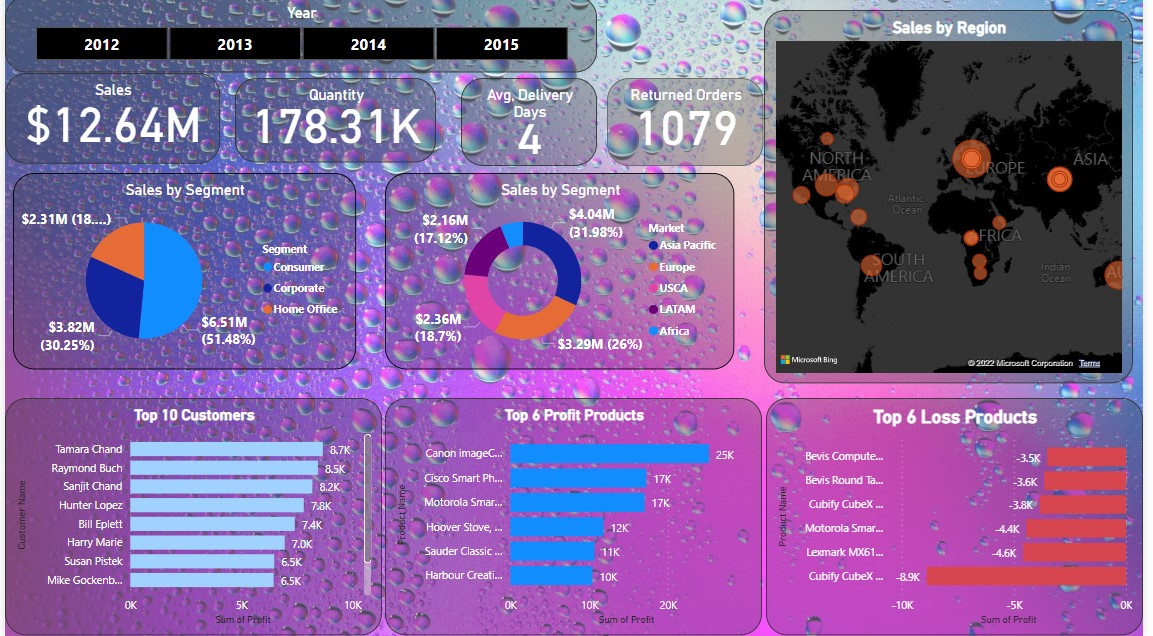

What the dashboard file says about the page in this screenshot:
{"tool":"powerbi","page":{"name":"Page 1","canvas":[1280,720],"ordinal":0},"visuals":[{"type":"card","title":"Sales","fields":{"Values":["Orders.Sales"]},"box":[0,86.1,241.6,101.5],"z":0},{"type":"card","title":"Quantity","fields":{"Values":["Orders.Quantity"]},"box":[258.3,92.5,226.2,95.1],"z":1},{"type":"card","title":"Avg, Delivery Days","fields":{"Values":["Orders.Delivery Days"]},"box":[512.8,92.5,152.9,99],"z":2},{"type":"slicer","title":"Year","fields":{"Values":["Orders.Year"]},"box":[0,0,665.7,86.1],"z":3},{"type":"card","title":"Returned Orders","fields":{"Values":["Returns.Returns Orders"]},"box":[677.3,92.5,176.1,99],"z":4},{"type":"map","title":"Sales by Region","fields":{"Size":["Orders.Sales"],"Category":["Orders.Region"]},"box":[853.3,15.4,415.1,420.2],"z":5},{"type":"clusteredBarChart","title":"Top 6 Profit Products","fields":{"Y":["Orders.Profit"],"Category":["Orders.Product Name"]},"box":[428,452.4,424.1,267.3],"z":6},{"type":"clusteredBarChart","title":"Top 6 Loss Products","fields":{"Y":["Orders.Profit"],"Category":["Orders.Product Name"]},"box":[855.9,452.4,424.1,267.3],"z":7},{"type":"pieChart","title":" Sales by Segment","fields":{"Category":["Orders.Segment"],"Y":["Orders.Sales"]},"box":[9,199.2,385.5,221],"z":8},{"type":"donutChart","title":" Sales by Segment","fields":{"Category":["Orders.Market"],"Y":["Orders.Sales"]},"box":[428,199.2,393.3,221],"z":9},{"type":"clusteredBarChart","title":"Top 10 Customers","fields":{"Y":["Orders.Profit"],"Category":["Orders.Customer Name"]},"box":[0,452.4,424.1,267.3],"z":10}]}

Visuals, with their boxes in screenshot pixels (x1, y1, x2, y2), scaled from the page's 1280x720 canvas onto the 1153x636 screenshot:
"Sales" card: {"left": 0, "top": 76, "right": 218, "bottom": 166}
"Quantity" card: {"left": 233, "top": 82, "right": 436, "bottom": 166}
"Avg, Delivery Days" card: {"left": 462, "top": 82, "right": 600, "bottom": 169}
"Year" slicer: {"left": 0, "top": 0, "right": 600, "bottom": 76}
"Returned Orders" card: {"left": 610, "top": 82, "right": 769, "bottom": 169}
"Sales by Region" map: {"left": 769, "top": 14, "right": 1143, "bottom": 385}
"Top 6 Profit Products" clusteredBarChart: {"left": 386, "top": 400, "right": 768, "bottom": 635}
"Top 6 Loss Products" clusteredBarChart: {"left": 771, "top": 400, "right": 1152, "bottom": 635}
" Sales by Segment" pieChart: {"left": 8, "top": 176, "right": 355, "bottom": 371}
" Sales by Segment" donutChart: {"left": 386, "top": 176, "right": 740, "bottom": 371}
"Top 10 Customers" clusteredBarChart: {"left": 0, "top": 400, "right": 382, "bottom": 635}
